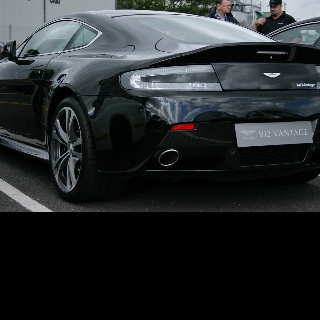without_mask: (214, 0, 230, 12), (268, 5, 281, 17)
